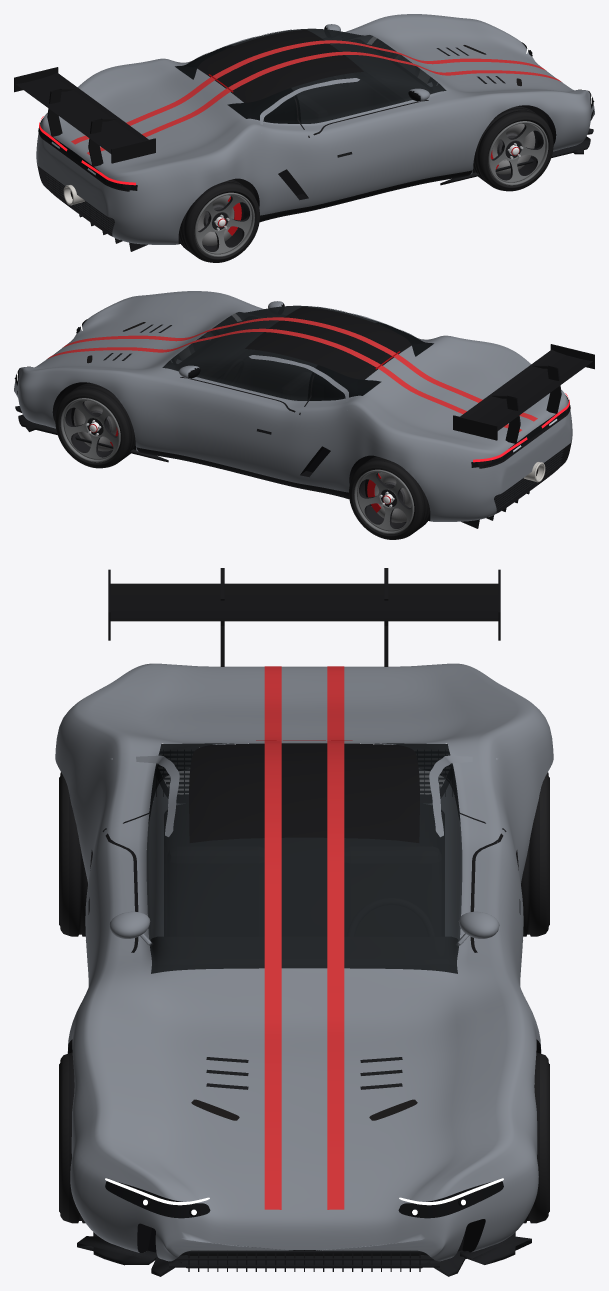
Rendered from vertigo-r.glb.
The picture shows the model from 3 angles, top to bottom: view 1: azimuth 30°, elevation 25°; view 2: azimuth 150°, elevation 25°; view 3: azimuth 270°, elevation 25°; orthographic projection. The views are drawn at different scales.
Visible parts, largest first — view 1: vertigo-r_Body, wheel_FR.005, wheel_RR.005, vertigo-r_Wing, vertigo-r_CabinTub, vertigo-r_Dash, vertigo-r_Stripe_1, vertigo-r_Stripe_-1, vertigo-r_Rocker_-1, vertigo-r_Splitter, vertigo-r_WingPlate_-1, vertigo-r_SeatBack_0_-1 (+7 smaller); view 2: vertigo-r_Body, wheel_FL.005, wheel_RL.005, vertigo-r_Wing, vertigo-r_CabinTub, vertigo-r_Dash, vertigo-r_Stripe_-1, vertigo-r_Stripe_1, vertigo-r_Rocker_1, vertigo-r_WingPlate_1, vertigo-r_Splitter, vertigo-r_SeatBack_0_1 (+7 smaller); view 3: vertigo-r_Body, vertigo-r_Wing, vertigo-r_Stripe_1, vertigo-r_Stripe_-1, vertigo-r_Dash, vertigo-r_SeatBack_0_-1, vertigo-r_SeatBack_0_1, vertigo-r_CabinTub, vertigo-r_Splitter, wheel_RR.005, wheel_RL.005, wheel_FR.005 (+8 smaller).
Boxes of the visible parts, left/top/right/bottom form: vertigo-r_Body: left=36, top=14, right=594, bottom=244; wheel_FR.005: left=473, top=106, right=553, bottom=191; wheel_RR.005: left=178, top=179, right=259, bottom=262; vertigo-r_Wing: left=16, top=72, right=148, bottom=153; vertigo-r_CabinTub: left=292, top=45, right=432, bottom=119; vertigo-r_Dash: left=332, top=39, right=432, bottom=103; vertigo-r_Stripe_1: left=71, top=40, right=546, bottom=144; vertigo-r_Stripe_-1: left=87, top=51, right=561, bottom=154; vertigo-r_Rocker_-1: left=259, top=170, right=472, bottom=222; vertigo-r_Splitter: left=433, top=86, right=593, bottom=185; vertigo-r_WingPlate_-1: left=111, top=138, right=155, bottom=163; vertigo-r_SeatBack_0_-1: left=297, top=95, right=327, bottom=123; vertigo-r_Body: left=14, top=291, right=572, bottom=521; wheel_FL.005: left=55, top=383, right=135, bottom=468; wheel_RL.005: left=349, top=456, right=430, bottom=539; vertigo-r_Wing: left=460, top=349, right=592, bottom=430; vertigo-r_CabinTub: left=176, top=322, right=367, bottom=396; vertigo-r_Dash: left=176, top=316, right=276, bottom=380; vertigo-r_Stripe_-1: left=62, top=317, right=537, bottom=421; vertigo-r_Stripe_1: left=47, top=328, right=521, bottom=431; vertigo-r_Rocker_1: left=136, top=447, right=349, bottom=499; vertigo-r_WingPlate_1: left=453, top=415, right=497, bottom=440; vertigo-r_Splitter: left=15, top=363, right=175, bottom=462; vertigo-r_SeatBack_0_1: left=281, top=372, right=311, bottom=400; vertigo-r_Body: left=55, top=663, right=553, bottom=1261; vertigo-r_Wing: left=110, top=583, right=498, bottom=621; vertigo-r_Stripe_1: left=327, top=666, right=344, bottom=1209; vertigo-r_Stripe_-1: left=264, top=666, right=281, bottom=1209; vertigo-r_Dash: left=150, top=937, right=458, bottom=973; vertigo-r_SeatBack_0_-1: left=168, top=847, right=263, bottom=935; vertigo-r_SeatBack_0_1: left=345, top=847, right=440, bottom=935; vertigo-r_CabinTub: left=164, top=804, right=444, bottom=935; vertigo-r_Splitter: left=77, top=1232, right=531, bottom=1276; wheel_RR.005: left=59, top=772, right=87, bottom=936; wheel_RL.005: left=521, top=772, right=549, bottom=936; wheel_FR.005: left=59, top=1052, right=85, bottom=1223.
Bounding box in the file's own units: 4.78 × 1.24 × 2.07.
